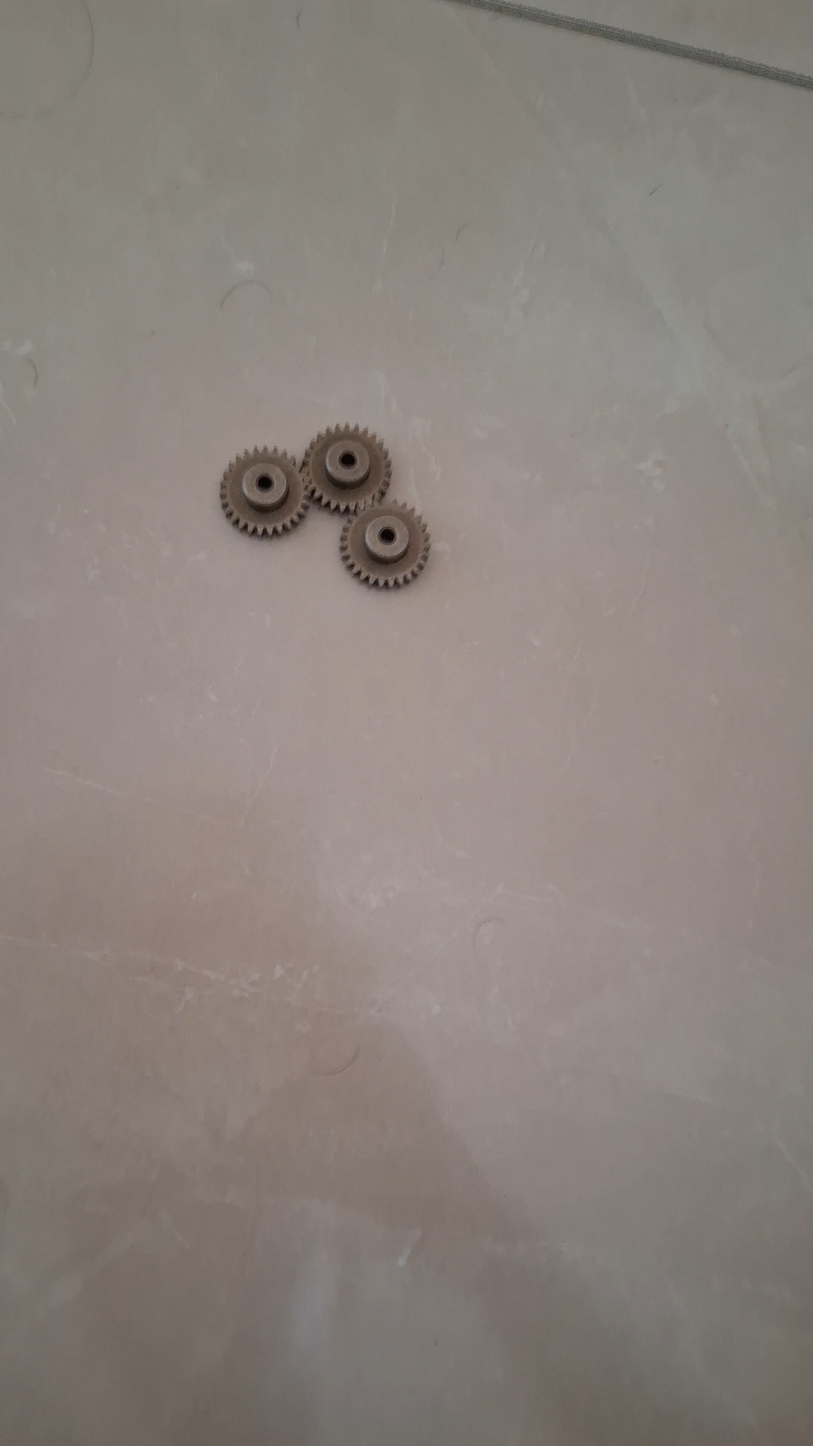spur gear: (301, 425, 391, 513), (221, 448, 309, 536), (340, 501, 430, 587)
